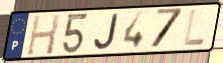4: (121, 10, 146, 51)
5: (61, 12, 90, 55)
7: (151, 7, 185, 51)
H: (24, 13, 62, 57)
J: (92, 12, 121, 52)
L: (182, 9, 207, 48)
